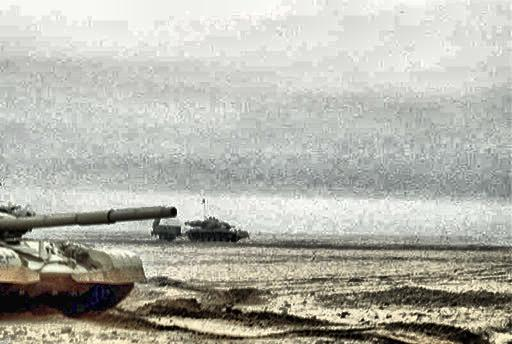tanks: (1, 208, 177, 317), (187, 219, 249, 243)
